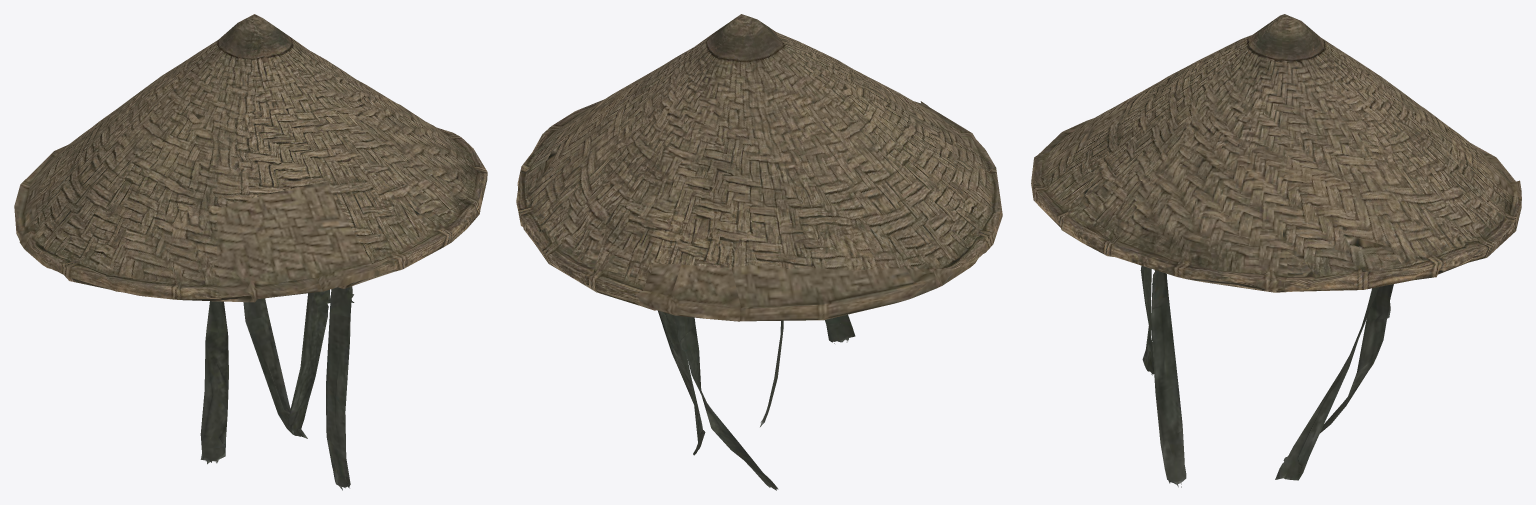
The model's file is item_bamboo_hat.tpl_f2_medium.glb.
The picture shows the model from 3 angles, left to right: view 1: azimuth 30°, elevation 25°; view 2: azimuth 150°, elevation 25°; view 3: azimuth 270°, elevation 25°; orthographic projection. The views are drawn at different scales.
Visible parts, largest first — view 1: NormalizedProp; view 2: NormalizedProp; view 3: NormalizedProp.
Boxes of the visible parts, bbox=[...] form: NormalizedProp: bbox=[14, 14, 487, 490]; NormalizedProp: bbox=[516, 14, 1002, 490]; NormalizedProp: bbox=[1031, 14, 1521, 487].
Size of the model in its own units: 0.2656 by 0.2731 by 0.2671.
Materials: 1 (1 with a texture image).
